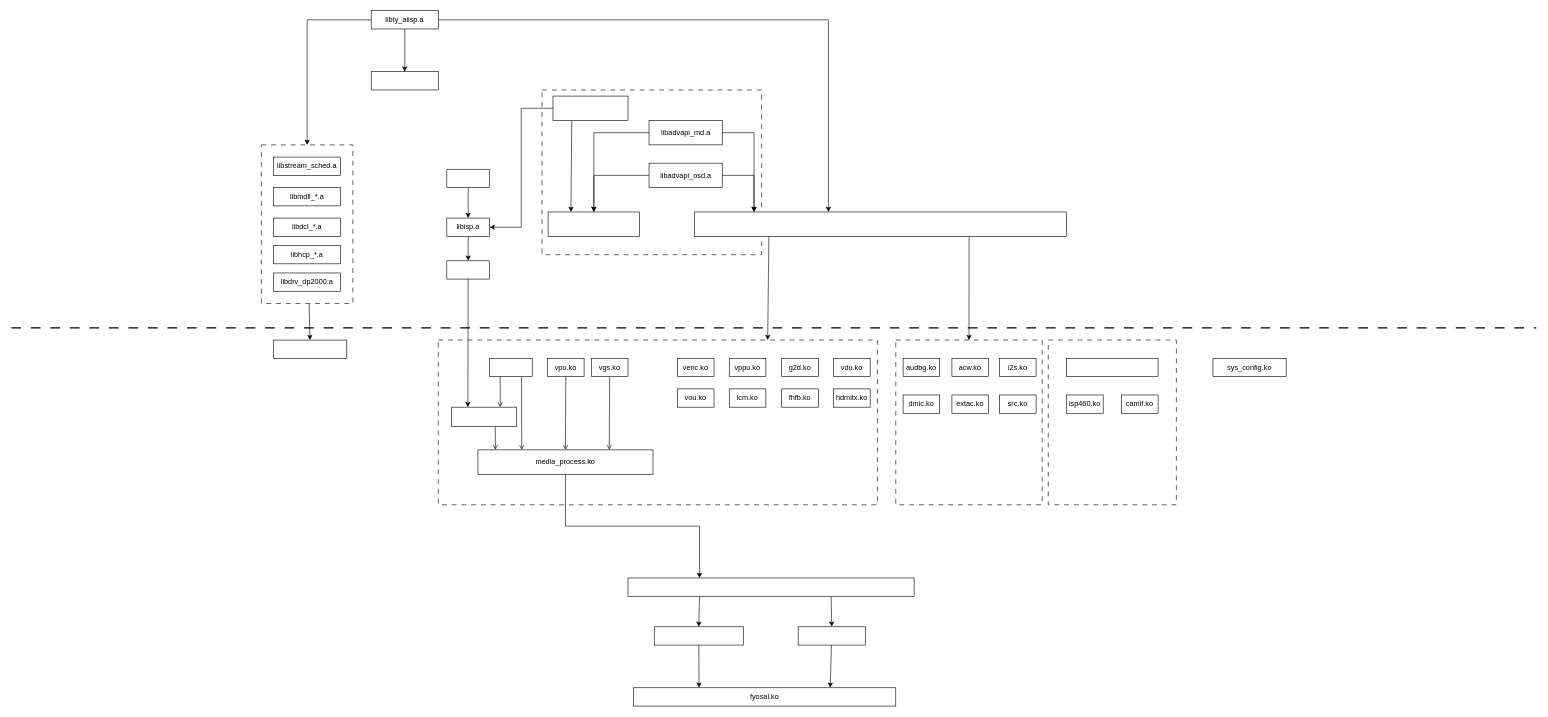
This 1548x717 diagram has some shape labels left out. The shapes that lost their labels are listed below. From the top down, each one's box as (x1, y1, x2, y2) in pixels, then its label:
(371, 71, 438, 90): libaiisp.a
(552, 95, 628, 120): libadvapi_smartir.a
(446, 169, 490, 188): libdbi.a
(547, 211, 640, 236): libadvapi.a
(694, 211, 1067, 236): libmpi.a
(446, 260, 490, 279): libispcore.a
(273, 339, 347, 358): nnp.ko
(489, 358, 532, 377): vicap.ko
(1066, 358, 1158, 377): pre_rolling.ko
(451, 407, 516, 427): isp.ko
(627, 577, 914, 596): sys.ko
(654, 626, 743, 645): fybase.ko
(798, 626, 865, 645): mmz.ko
